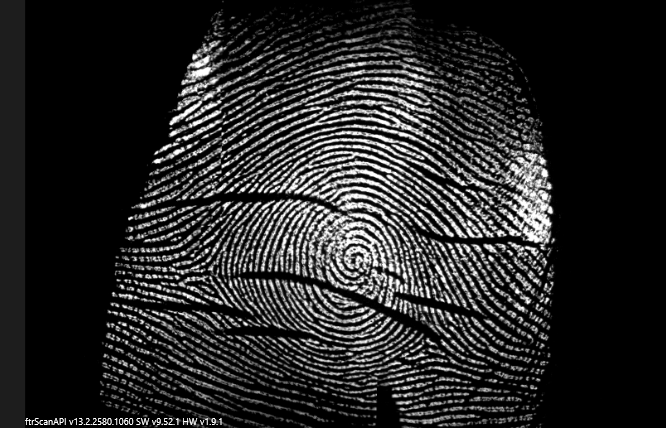nucelo: (336, 239, 379, 280)
verticilo: (410, 315, 447, 350), (197, 253, 225, 287)
